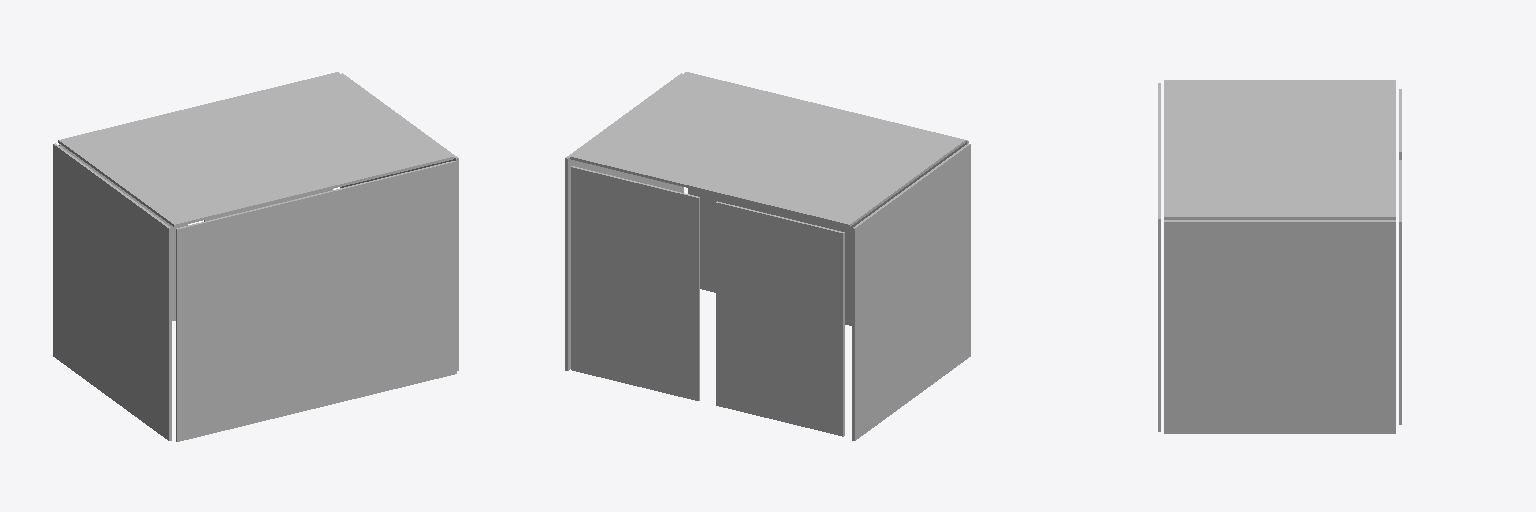
Rendered from coffee_cabin.obj.
3 renders of one model, left to right at view 1: azimuth 30°, elevation 25°; view 2: azimuth 150°, elevation 25°; view 3: azimuth 270°, elevation 25°, orthographic.
Size of the model in its own units: 1.14 by 0.81 by 0.83.